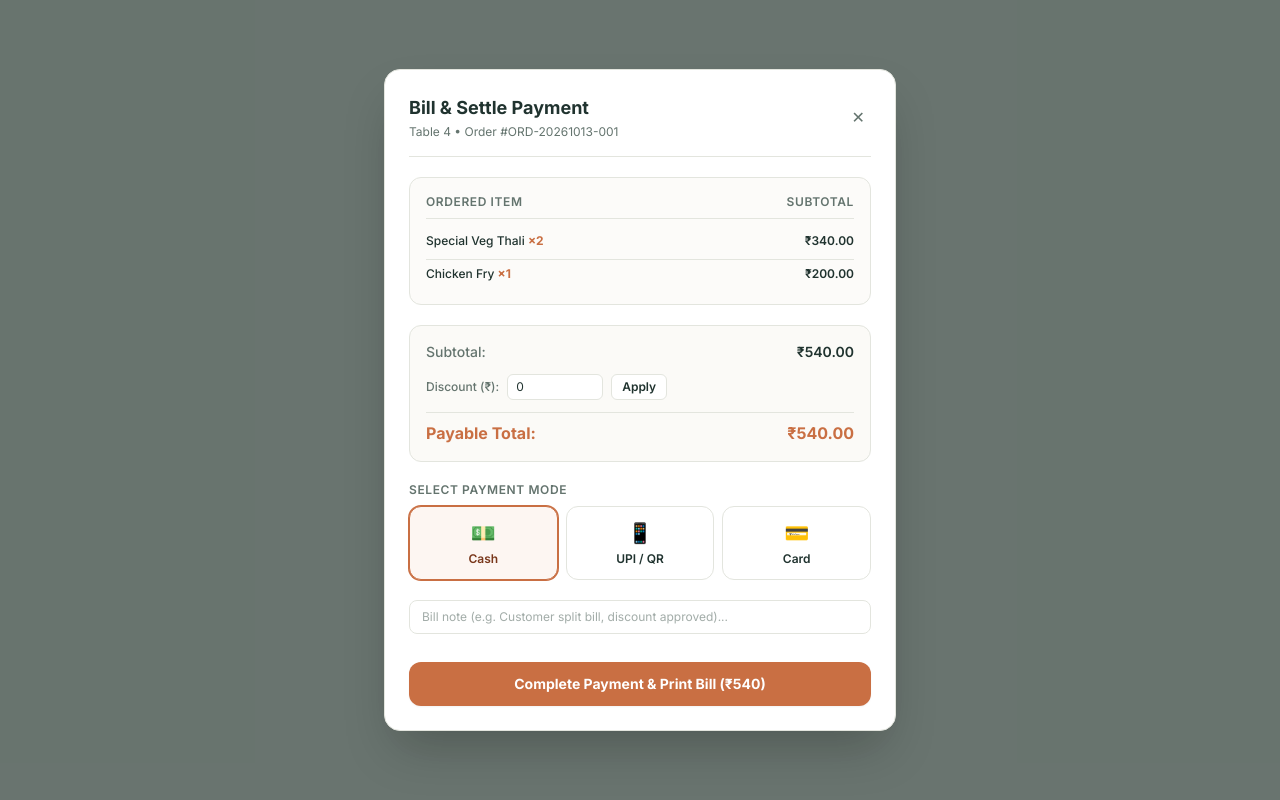
Test: SettleBillModal › allows selecting payment method and settling bill with cash
The width and height of the screenshot is (1280, 800).
// Click Cash (default is cash)
Click the button "Complete Payment & Print Bill (₹540)". click: (640,684)
box: [409,662,871,706]
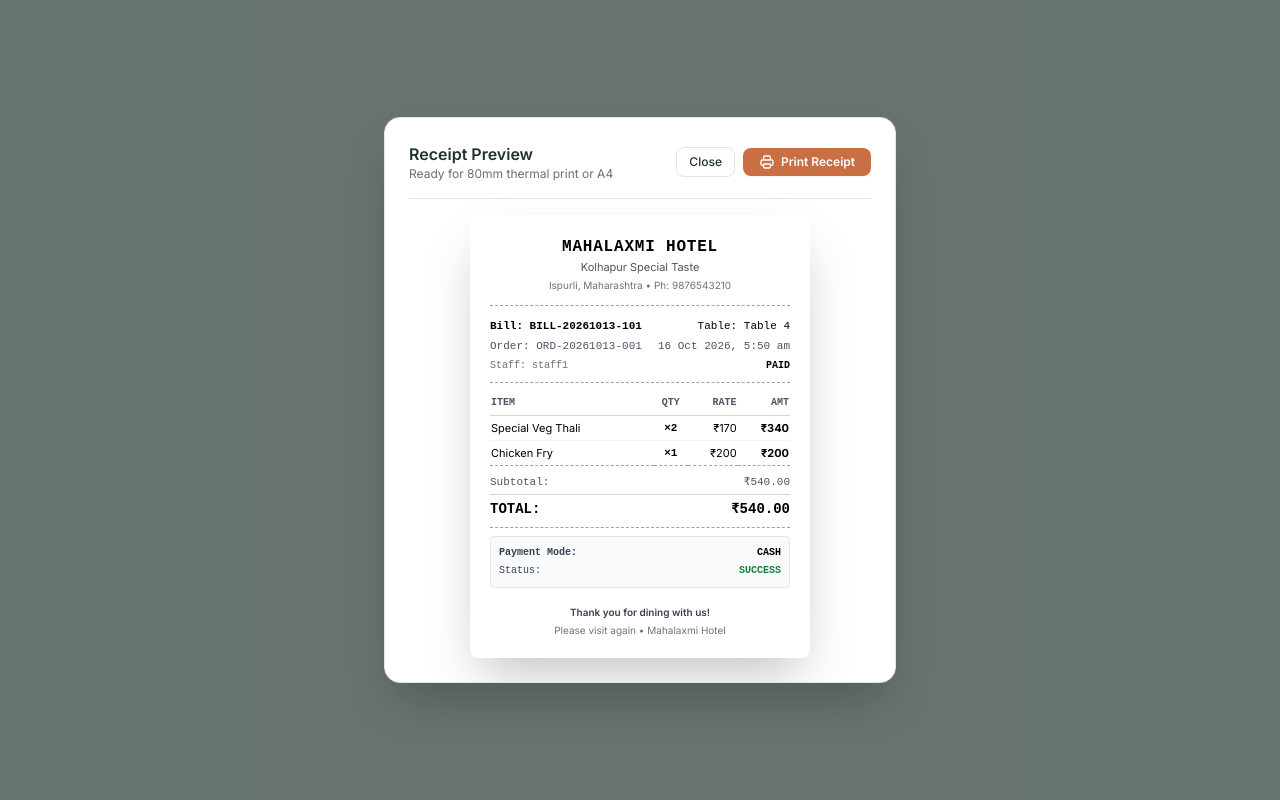
Check: the heading "Receipt Preview" is shown, box [409,144,533,164]
Check: the heading "Mahalaxmi Hotel" is shown, box [562,238,718,256]
